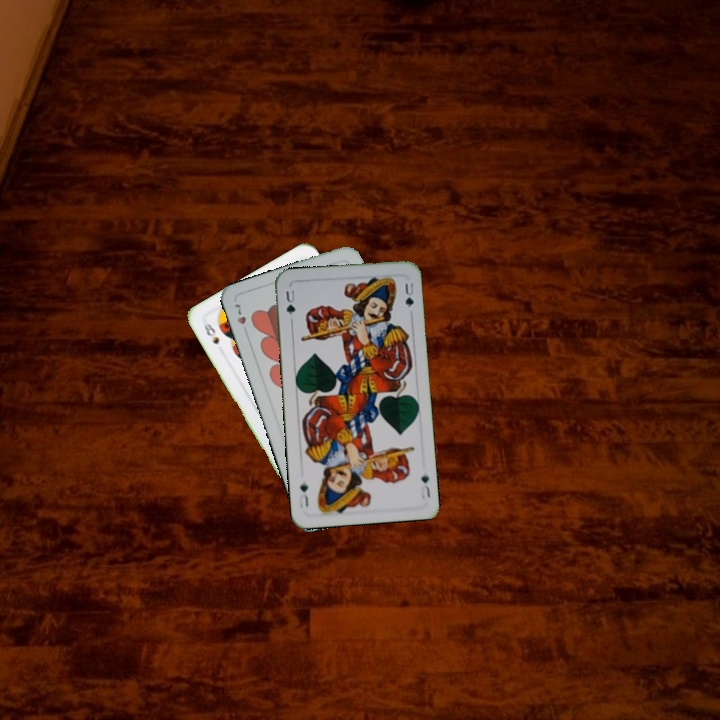GU: (282, 286, 298, 319), (417, 470, 433, 501)
H7: (230, 300, 250, 338)
S8: (200, 319, 222, 347)
